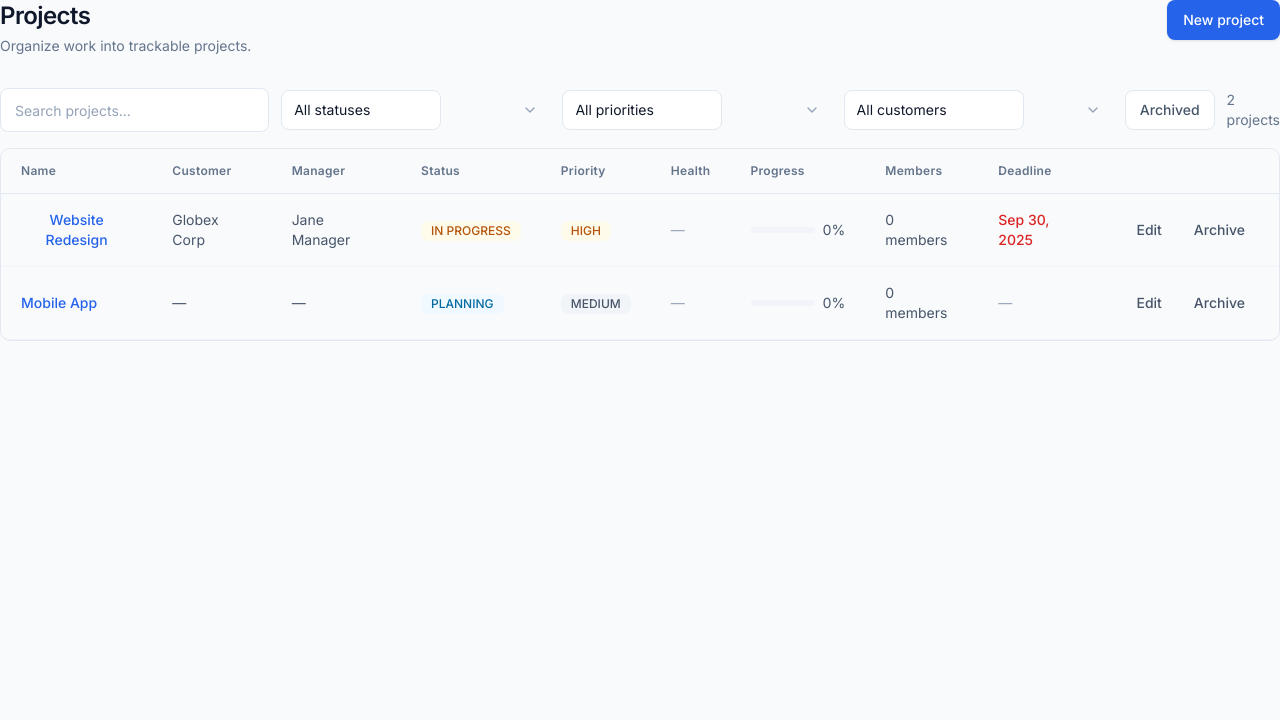
Scenario: ProjectsPage › New project button opens create modal
This screenshot has width=1280, height=720.
Click the button "New project".
click(1224, 20)  # box top-left (1167, 0), bottom-right (1279, 40)
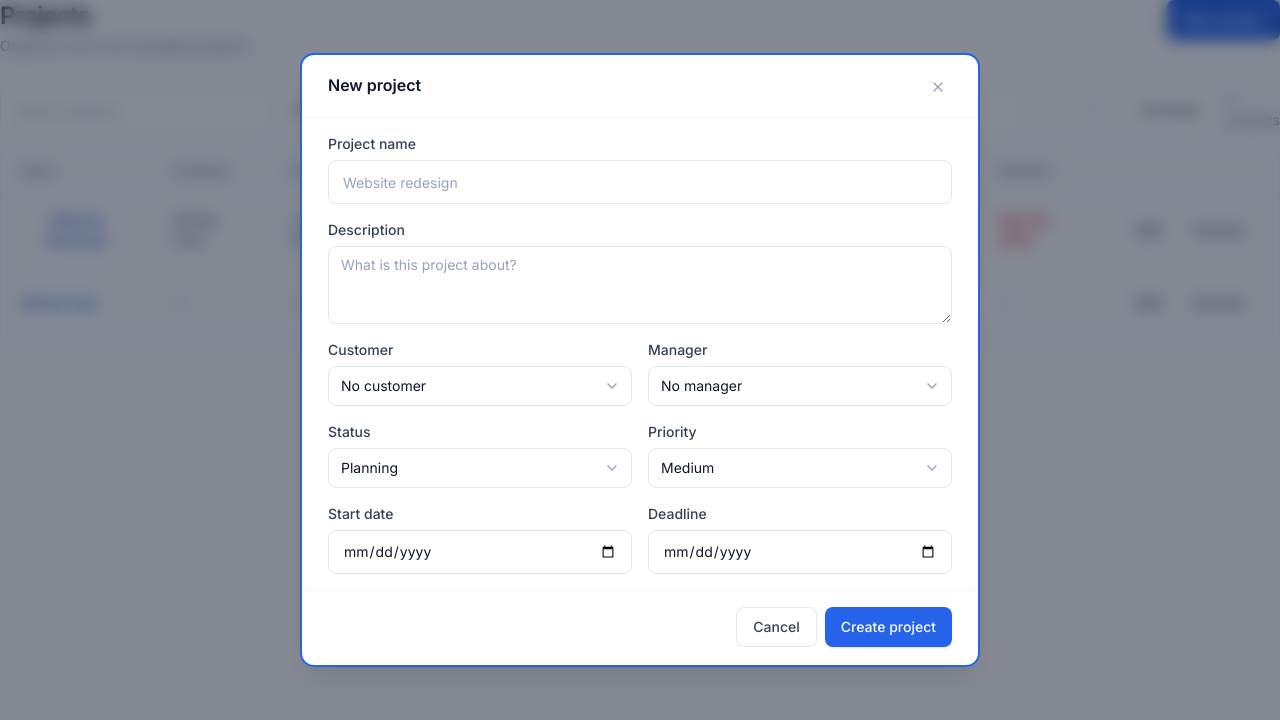
Check: the dialog is shown, box top-left (304, 57), bottom-right (976, 663)
Check: the heading "New project" is shown, box top-left (328, 73), bottom-right (421, 97)
